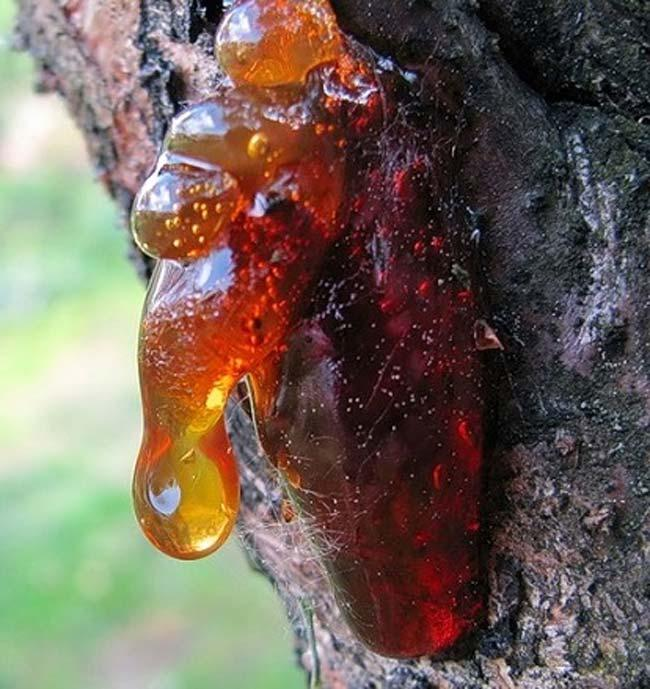gommosis: (131, 0, 500, 658)
